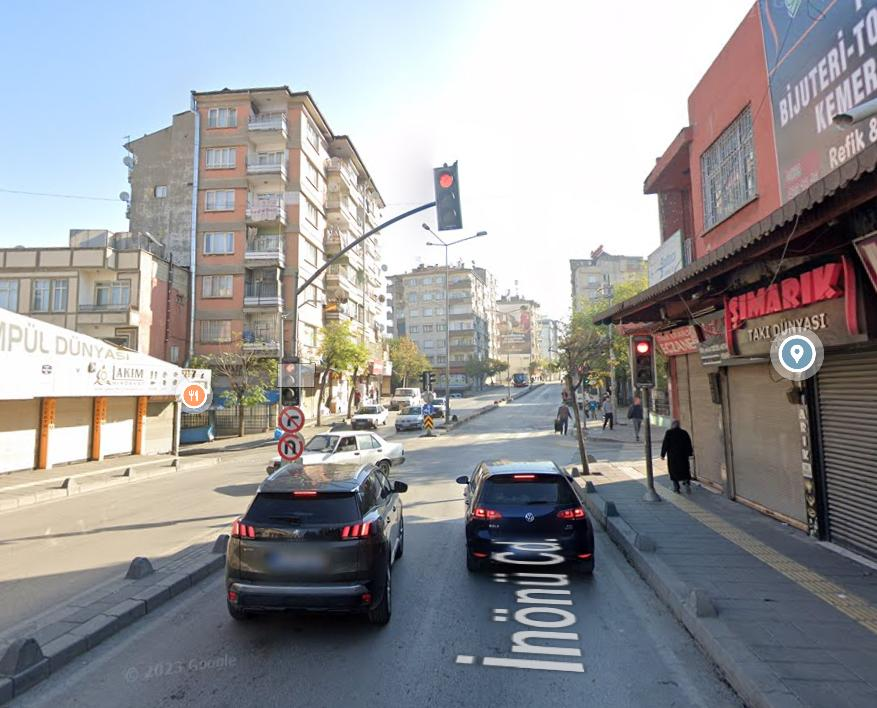redlight: (433, 167, 460, 225), (632, 335, 656, 386)
